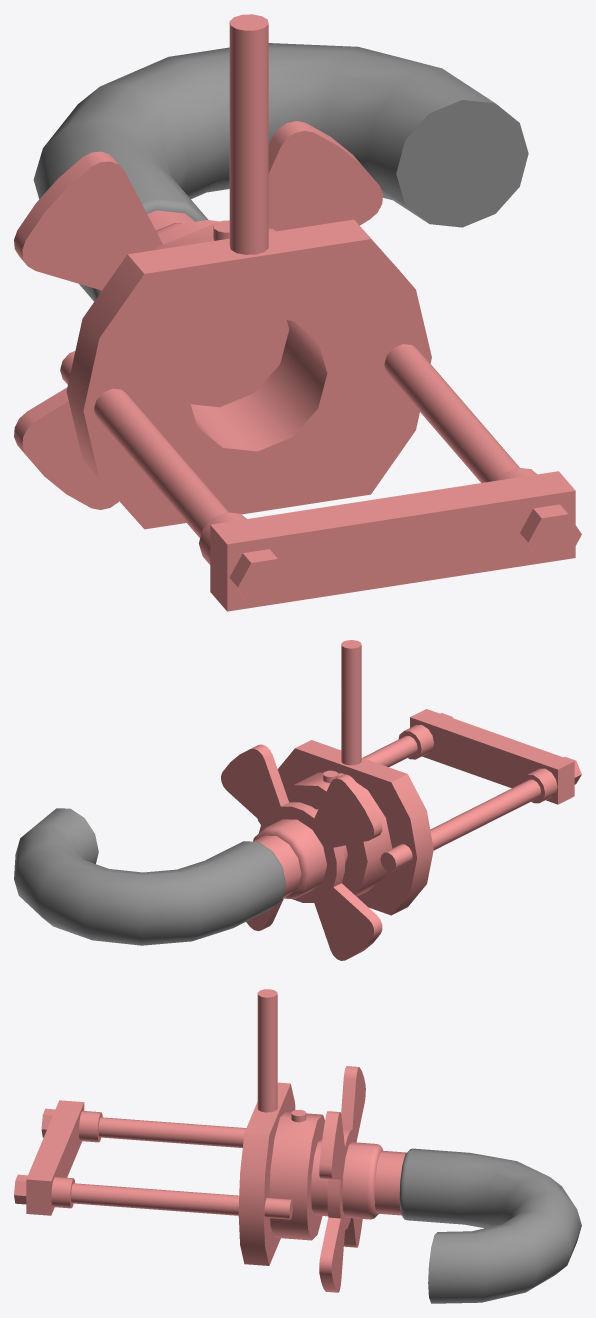
The model's file is SM_SUG_All_Right_04_1_2.gltf.
3 views of the same model, one above another, from view 1: azimuth 30°, elevation 25°; view 2: azimuth 150°, elevation 25°; view 3: azimuth 270°, elevation 25° (orthographic). The views are drawn at different scales.
Visible parts, largest first — view 1: SM_SUG_All_Right_04_1_2; view 2: SM_SUG_All_Right_04_1_2; view 3: SM_SUG_All_Right_04_1_2.
Boxes of the visible parts, box(x1,y1,x2,y2) form: SM_SUG_All_Right_04_1_2: box(14, 14, 581, 611); SM_SUG_All_Right_04_1_2: box(14, 640, 581, 960); SM_SUG_All_Right_04_1_2: box(14, 989, 581, 1303).
Size of the model in its own units: 0.2367 by 0.1794 by 0.3426.
